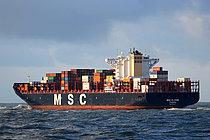Ship: (9, 47, 207, 115)
